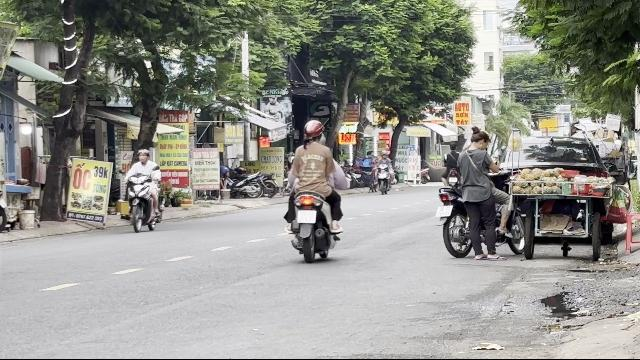helmet: (302, 120, 324, 142), (137, 148, 149, 162)
licenseplate: (298, 211, 316, 223), (436, 206, 452, 216)
motorcyclist: (282, 120, 346, 262), (122, 148, 164, 232)
